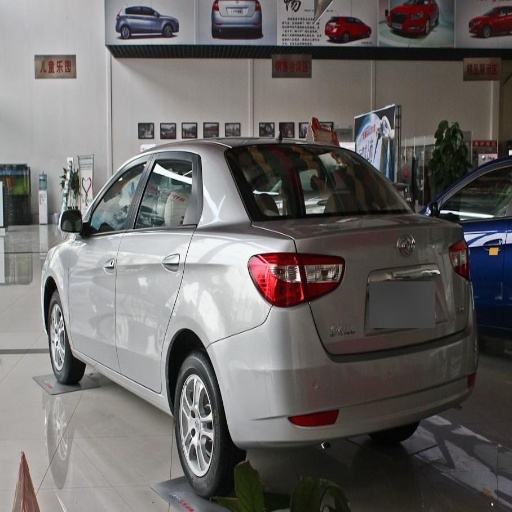back_bumper: (210, 300, 476, 467)
back_glass: (225, 145, 403, 221)
back_left_door: (118, 150, 198, 389)
tailgate: (278, 212, 462, 350)
